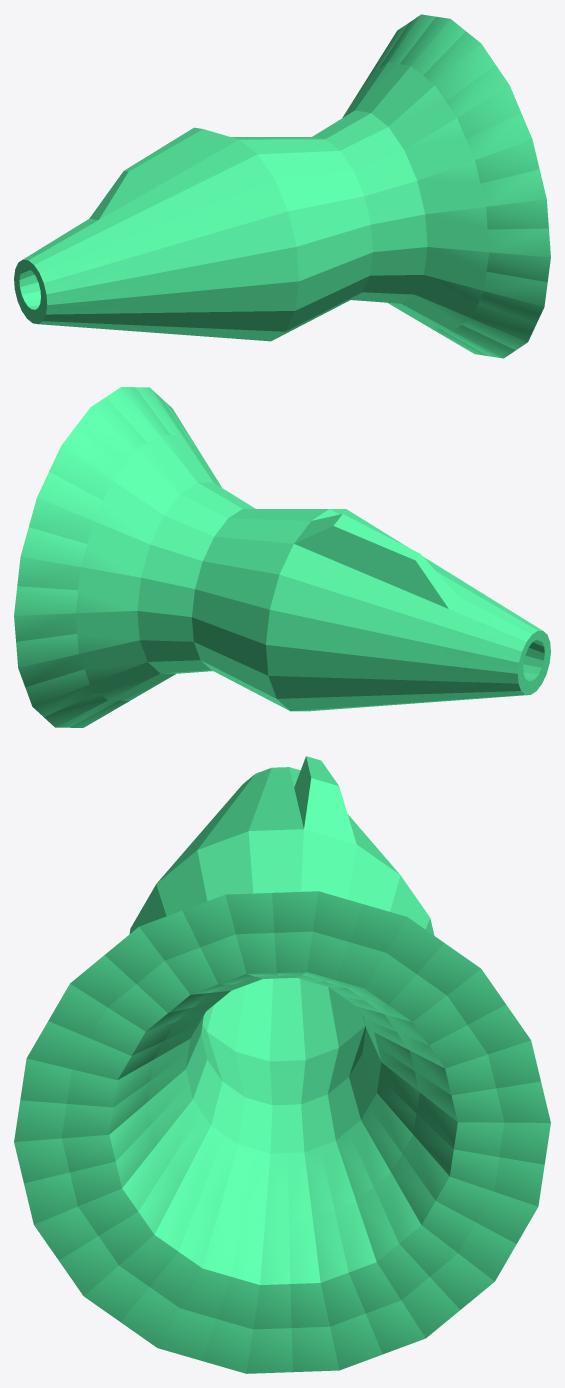
The model's file is megaphone.fbx.
3 renders of one model, top to bottom at view 1: azimuth 30°, elevation 25°; view 2: azimuth 150°, elevation 25°; view 3: azimuth 270°, elevation 25°, orthographic. The views are drawn at different scales.
Parts seen in each view (by area): view 1: 0Cylinder001; view 2: 0Cylinder001; view 3: 0Cylinder001.
Part boxes in pixels (x1,y1,x2,y2): 0Cylinder001: (14, 14, 550, 358); 0Cylinder001: (14, 387, 550, 727); 0Cylinder001: (14, 756, 550, 1373).
Bounding box in the file's own units: 200 × 141 × 142.
